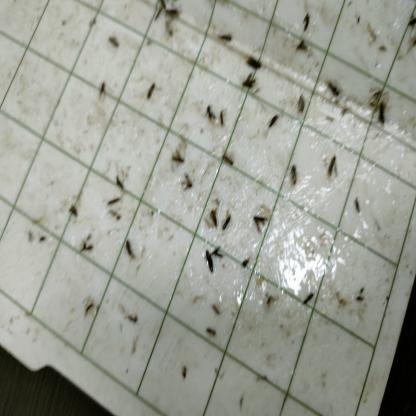prays_oleae: (211, 22, 240, 58), (121, 232, 137, 266), (376, 95, 390, 132), (206, 200, 221, 234), (326, 73, 344, 101), (81, 294, 99, 321), (64, 195, 78, 229), (251, 210, 267, 238), (301, 8, 314, 42), (163, 2, 183, 23), (218, 148, 233, 175), (298, 288, 316, 310), (203, 99, 217, 126), (296, 87, 308, 118), (220, 209, 234, 235), (107, 30, 121, 56), (242, 76, 260, 96), (204, 245, 216, 274), (292, 35, 308, 56), (245, 50, 260, 72), (266, 111, 280, 134), (180, 173, 194, 196), (98, 77, 110, 103), (78, 234, 90, 259), (289, 158, 300, 184), (166, 151, 184, 165), (114, 172, 126, 193), (145, 83, 158, 101), (329, 152, 336, 178), (407, 13, 416, 28), (104, 195, 121, 202)
